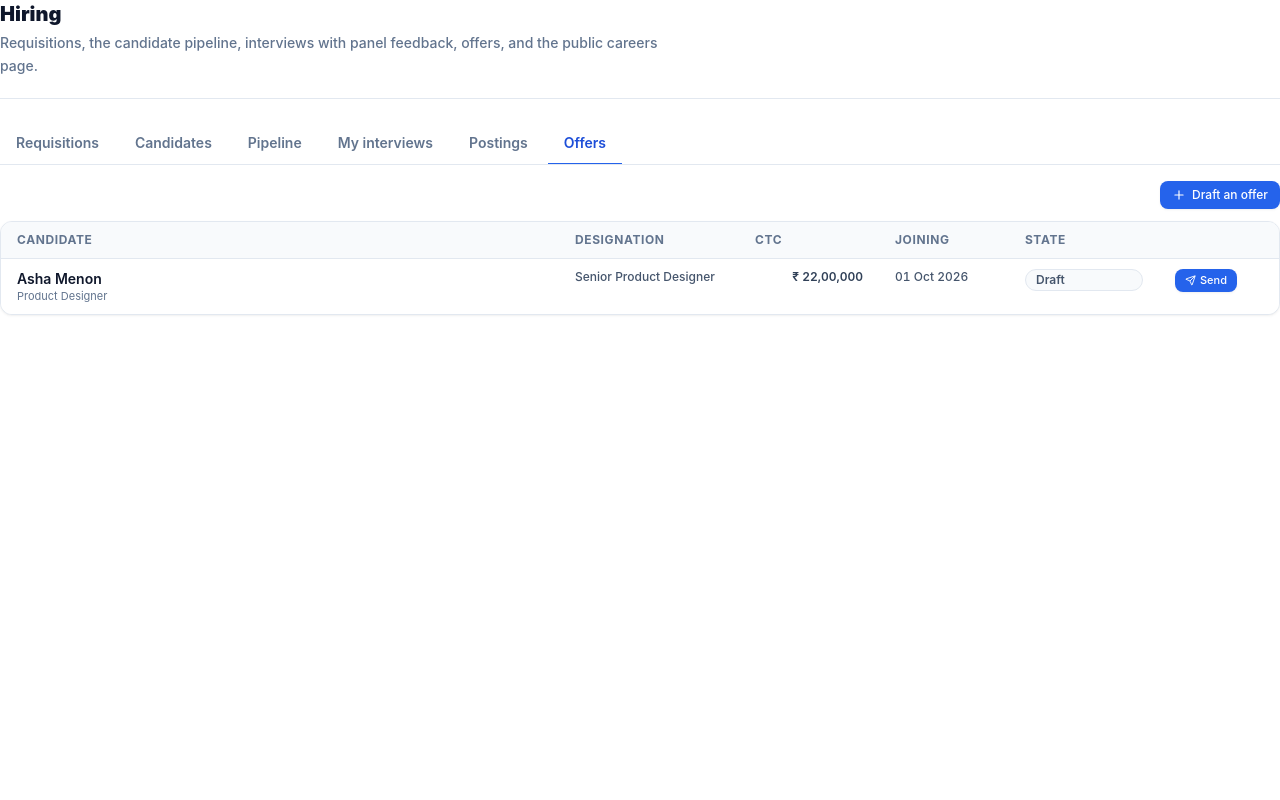
Scenario: offers › shows the candidate link exactly once, with a warning that it cannot be shown again
Click the button "Send" at (1206, 280), box [1175,268,1237,292]
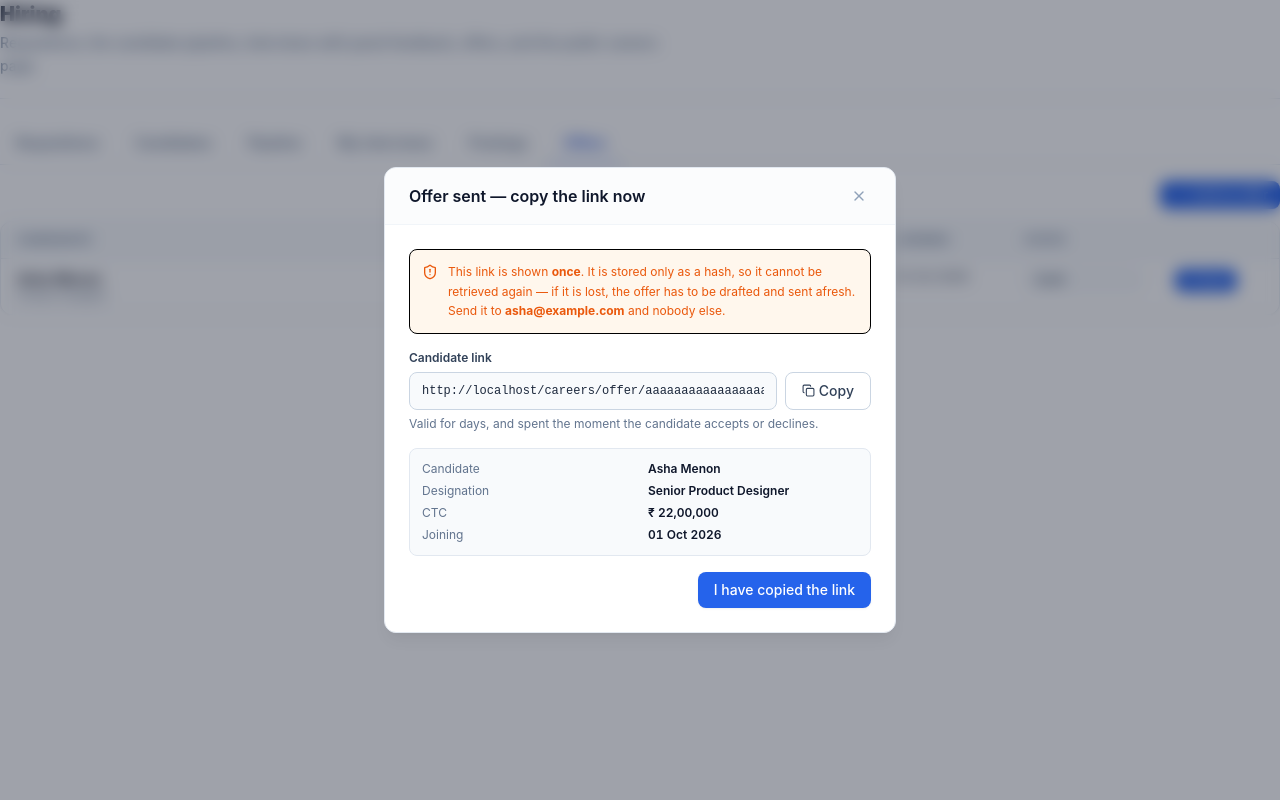
Check: the text "shown" is shown, box [448,264,552,279]
Check: the text "cannot be retrieved again" is shown, box [448,264,855,318]
